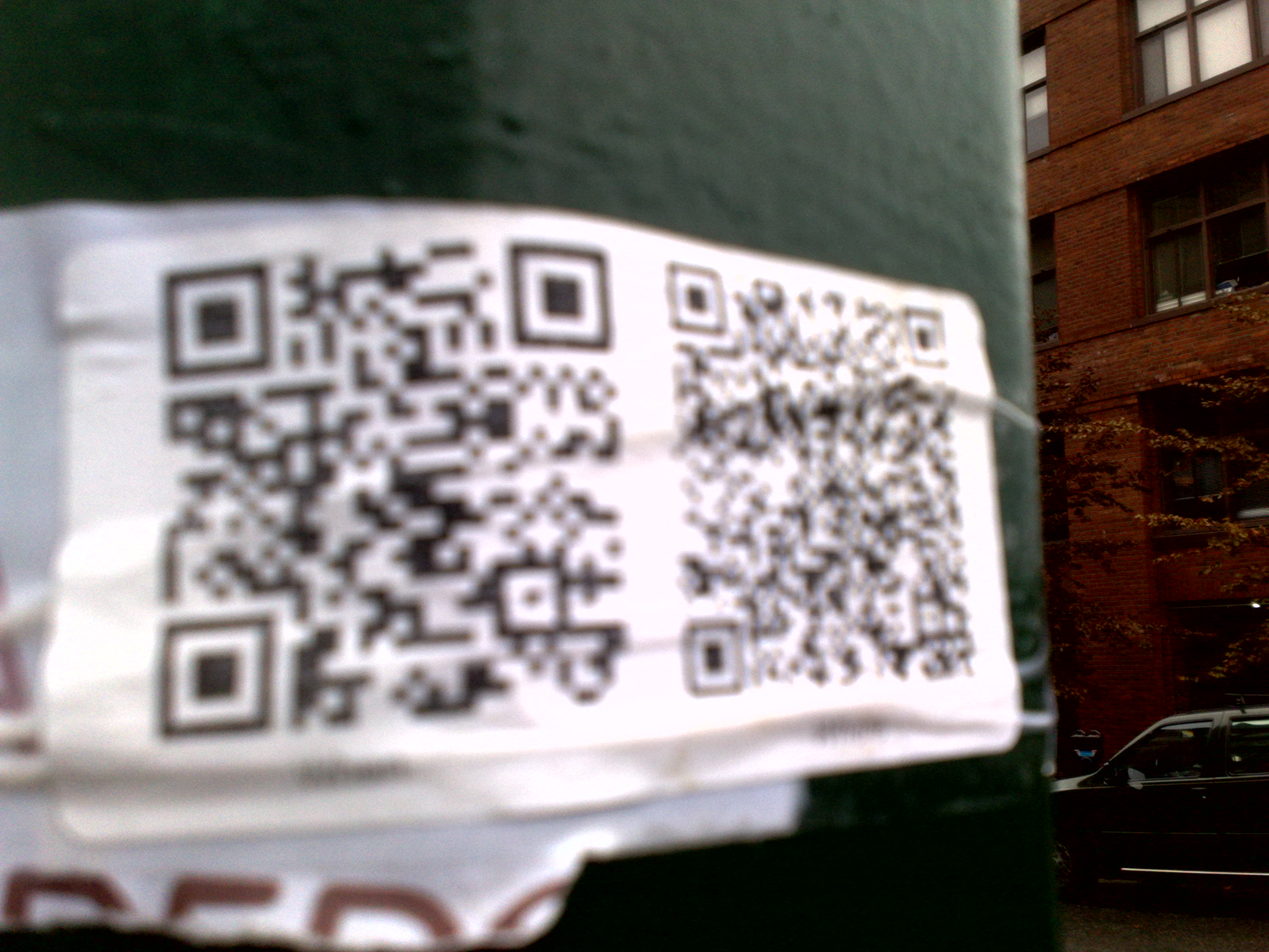QR-CODE: (160, 247, 626, 738), (671, 261, 969, 697)
